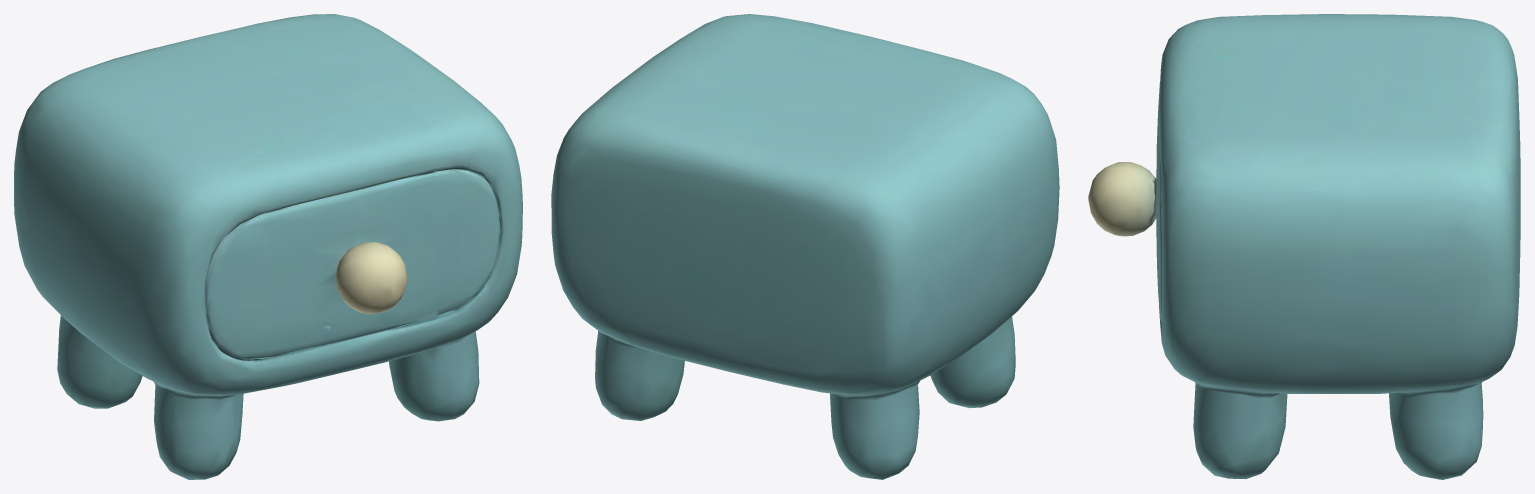
Rendered from bedroom_nightstand.glb.
3 renders of one model, left to right at view 1: azimuth 30°, elevation 25°; view 2: azimuth 150°, elevation 25°; view 3: azimuth 270°, elevation 25°, orthographic. The views are drawn at different scales.
Parts seen in each view (by area): view 1: tripo_node_43b58286-efec-46b9-969f-9e0a38a2cae4; view 2: tripo_node_43b58286-efec-46b9-969f-9e0a38a2cae4; view 3: tripo_node_43b58286-efec-46b9-969f-9e0a38a2cae4.
Part boxes in pixels (left/top/right/bottom): tripo_node_43b58286-efec-46b9-969f-9e0a38a2cae4: left=14, top=14, right=522, bottom=479; tripo_node_43b58286-efec-46b9-969f-9e0a38a2cae4: left=551, top=14, right=1059, bottom=479; tripo_node_43b58286-efec-46b9-969f-9e0a38a2cae4: left=1088, top=14, right=1520, bottom=479.
Size of the model in its own units: 0.5 by 0.3955 by 0.4695.
Materials: 1 (1 with a texture image).
